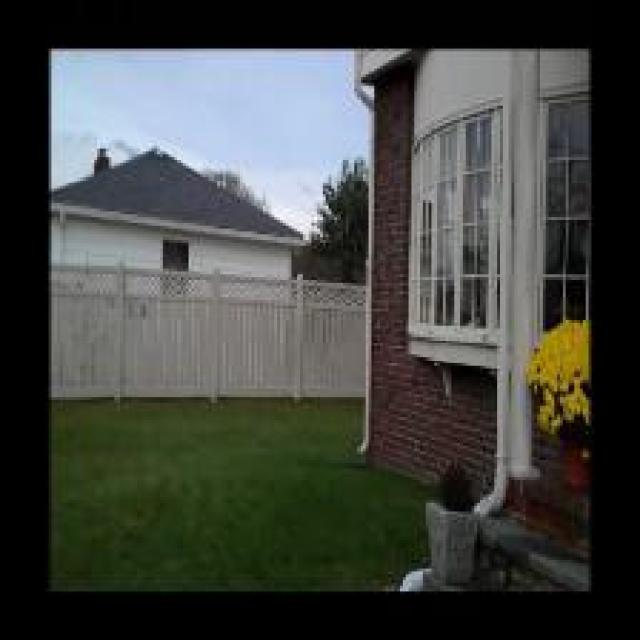other: (542, 319, 593, 476)
